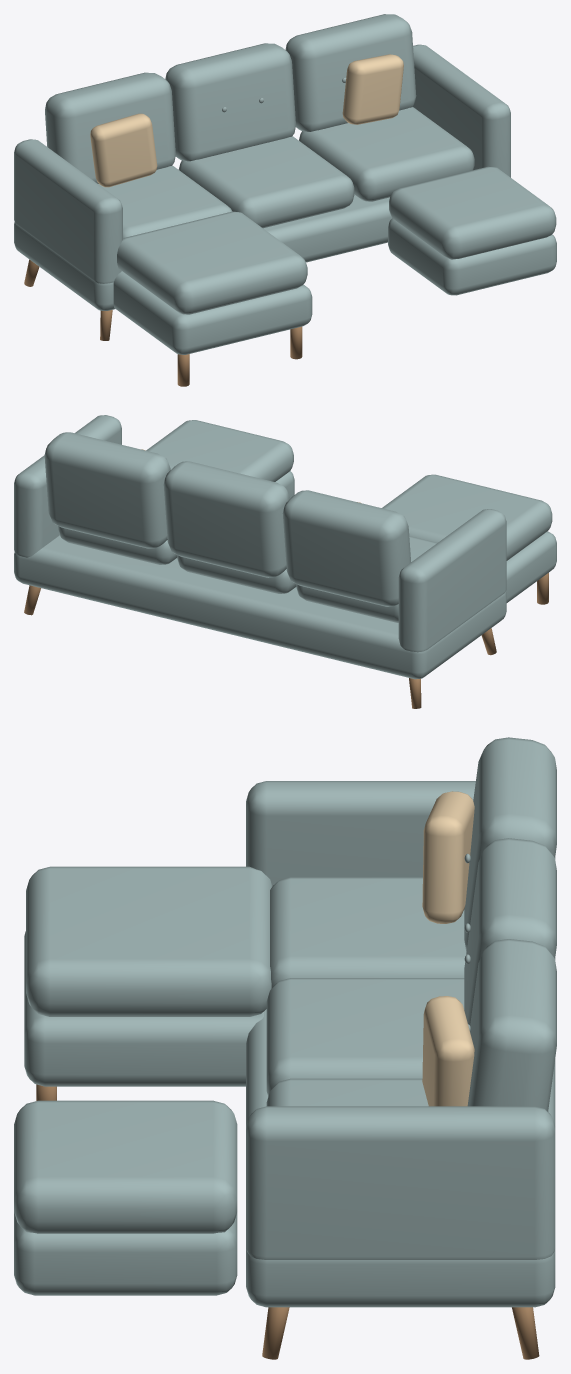
Rendered from atelier-sectional-sofa.glb.
3 views of the same model, one above another, from view 1: azimuth 30°, elevation 25°; view 2: azimuth 150°, elevation 25°; view 3: azimuth 270°, elevation 25° (orthographic). The views are drawn at different scales.
Visible parts, largest first — view 1: fabric.003, accent.003, legs.003; view 2: fabric.003, legs.003; view 3: fabric.003, accent.003, legs.003.
Boxes of the visible parts, bbox=[...] form: fabric.003: bbox=[14, 14, 556, 354]; accent.003: bbox=[90, 54, 403, 187]; legs.003: bbox=[24, 259, 302, 386]; fabric.003: bbox=[14, 415, 556, 679]; legs.003: bbox=[24, 573, 548, 708]; fabric.003: bbox=[14, 737, 556, 1307]; accent.003: bbox=[422, 791, 474, 1106]; legs.003: bbox=[36, 1084, 539, 1359].
Size of the model in its own units: 2.4 by 1.02 by 1.58.
